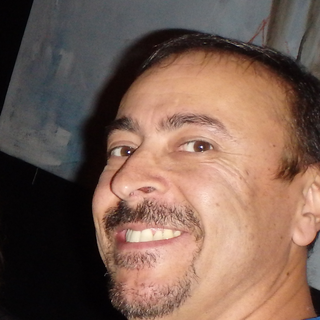eye: (174, 134, 223, 160), (108, 140, 141, 162)
